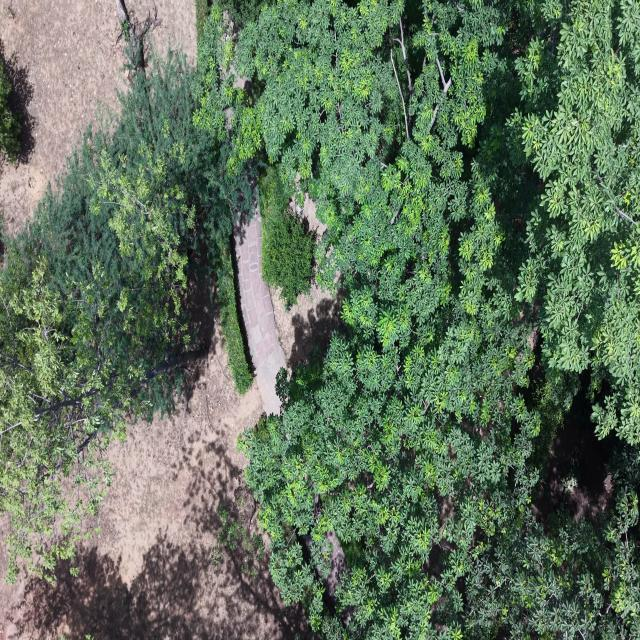DRY_AREA: (0, 330, 309, 639), (0, 329, 308, 639), (0, 331, 309, 639), (100, 340, 262, 584), (0, 0, 126, 234), (0, 0, 124, 235), (234, 193, 343, 414), (234, 195, 342, 414), (234, 198, 343, 413), (235, 198, 343, 413), (235, 211, 345, 412), (233, 191, 286, 414), (532, 397, 613, 523), (268, 282, 345, 373), (270, 283, 345, 372), (270, 283, 344, 372), (270, 284, 344, 372)
PATHWAYS: (235, 205, 285, 414)
VEGETATION_TREE: (0, 0, 639, 639), (196, 0, 639, 638), (0, 52, 248, 579), (14, 54, 240, 383), (15, 59, 211, 383), (510, 2, 639, 445), (0, 252, 131, 581), (259, 167, 315, 308), (217, 248, 253, 394), (211, 499, 264, 578), (0, 63, 20, 161), (211, 0, 273, 28), (195, 0, 208, 39)
